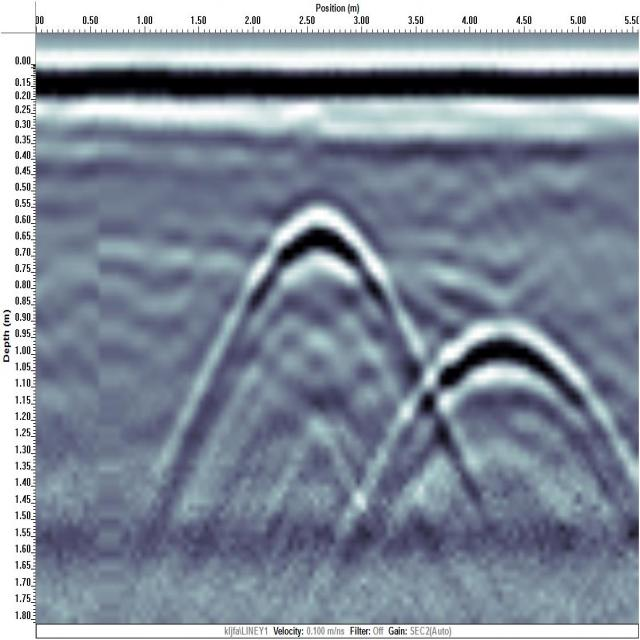hyperbola: (387, 301, 617, 494), (222, 191, 418, 370)
